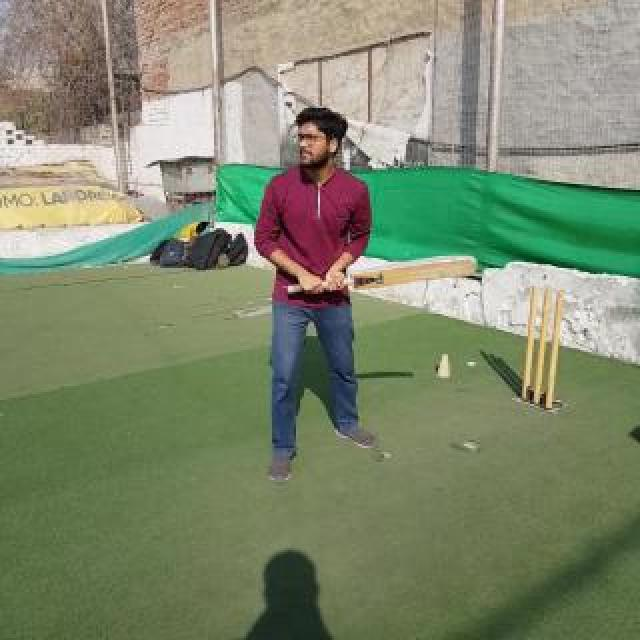bat: (288, 254, 478, 294)
